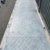zebra: (1, 20, 50, 40)
